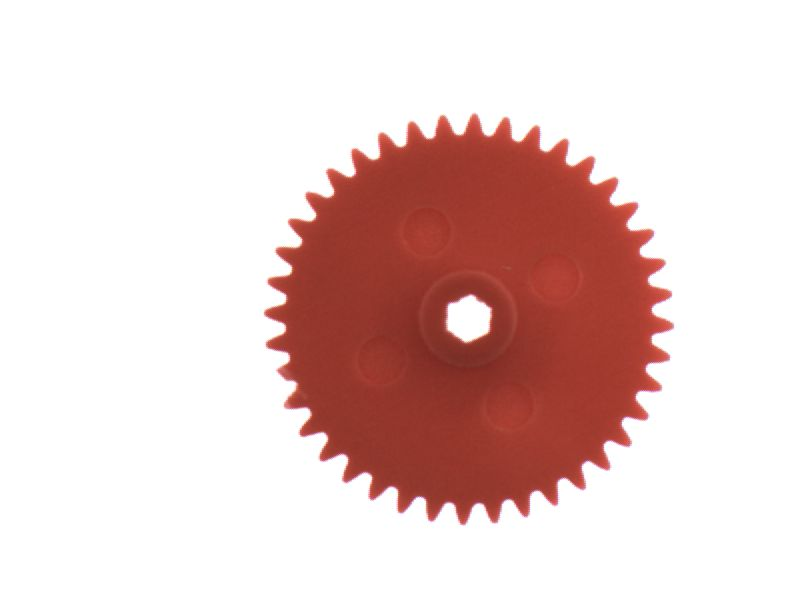defect_break: (256, 355, 306, 397)
